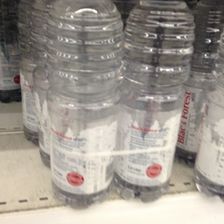water: (112, 1, 196, 204), (46, 1, 125, 208)
